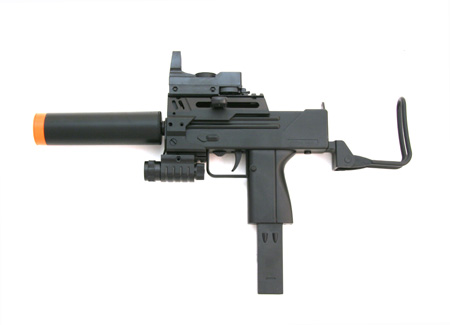rifle: (23, 43, 422, 312)
